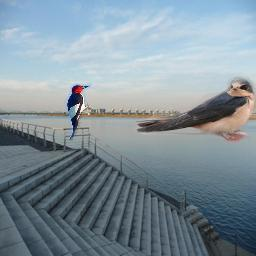Swallow: (134, 76, 256, 143)
Woodpecker: (62, 81, 93, 141)
